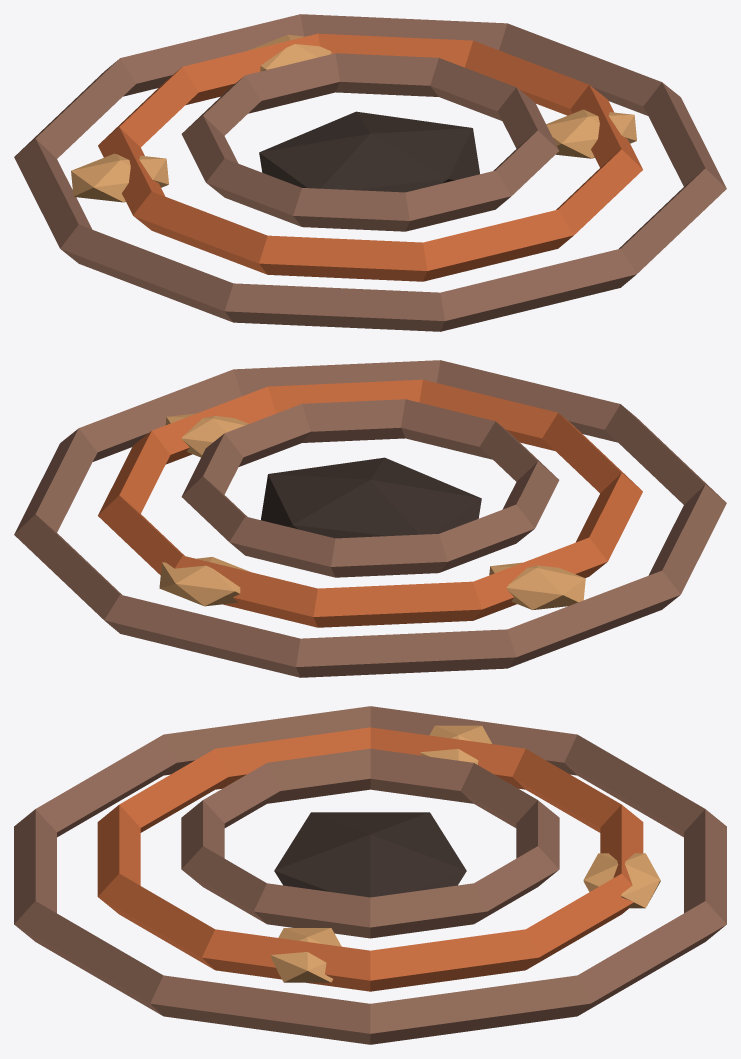
File: res_fish.glb
3 renders of one model, top to bottom at view 1: azimuth 30°, elevation 25°; view 2: azimuth 150°, elevation 25°; view 3: azimuth 270°, elevation 25°, orthographic. The views are drawn at different scales.
Parts seen in each view (by area): view 1: res_fish; view 2: res_fish; view 3: res_fish.
Part boxes in pixels (x1,y1,x2,y2): res_fish: (14,14,726,331); res_fish: (14,360,726,677); res_fish: (14,706,726,1044).
Size of the model in its own units: 0.298 by 0.037 by 0.2834.
